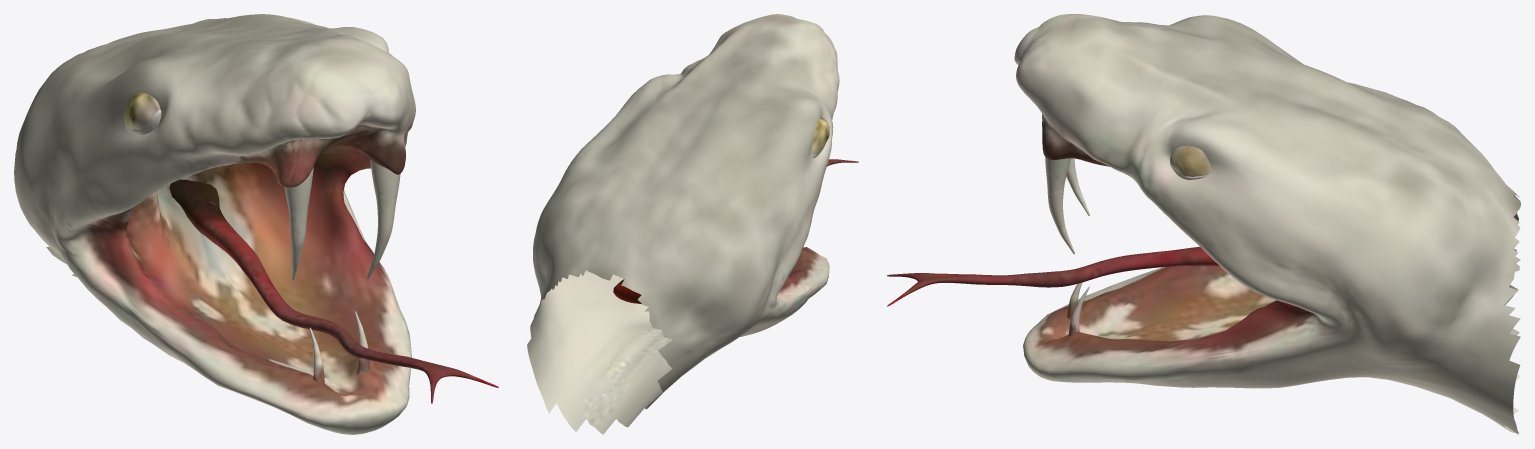
Rendered from satha_head.glb.
3 views of the same model, side by side, from view 1: azimuth 30°, elevation 25°; view 2: azimuth 150°, elevation 25°; view 3: azimuth 270°, elevation 25° (orthographic). The views are drawn at different scales.
Parts seen in each view (by area): view 1: satha_head; view 2: satha_head; view 3: satha_head.
Part boxes in pixels (bbox=[...]): satha_head: bbox=[14, 14, 498, 434]; satha_head: bbox=[527, 14, 858, 434]; satha_head: bbox=[887, 14, 1520, 434].
Size of the model in its own units: 1.06 by 1.34 by 2.
1 material, 1 textured.
